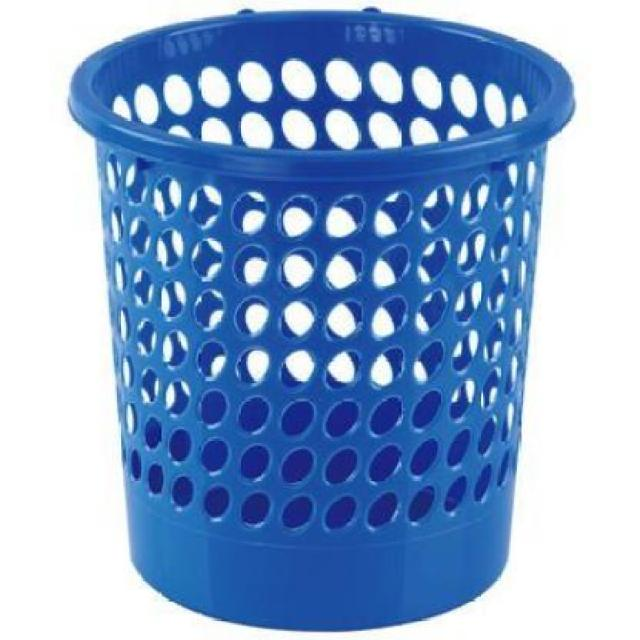dustbin: (63, 2, 581, 639)
